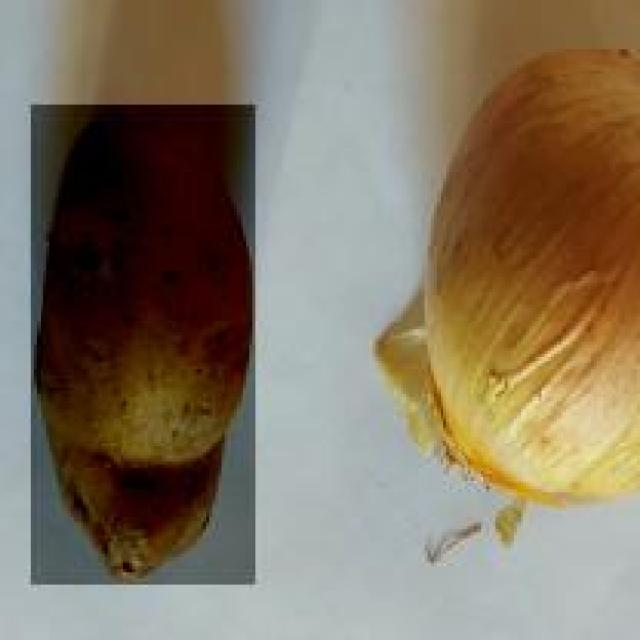onion: (421, 27, 640, 510)
potato: (31, 101, 258, 584)
